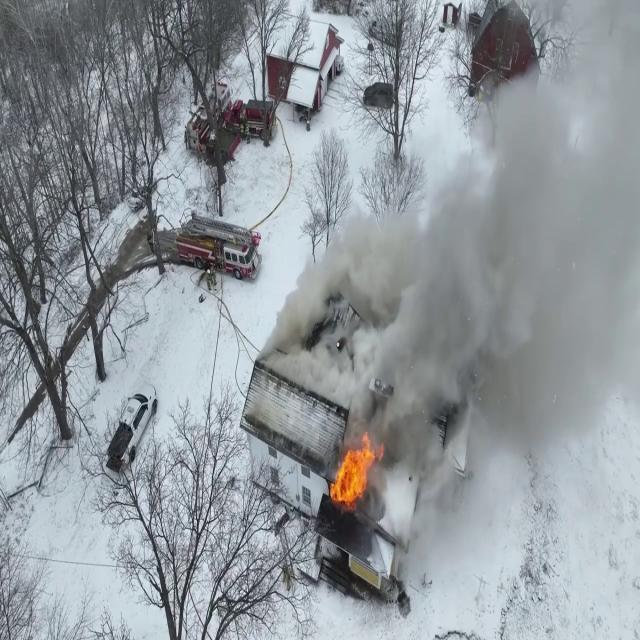Fire: (328, 430, 383, 510)
Smoke: (347, 9, 640, 495)
